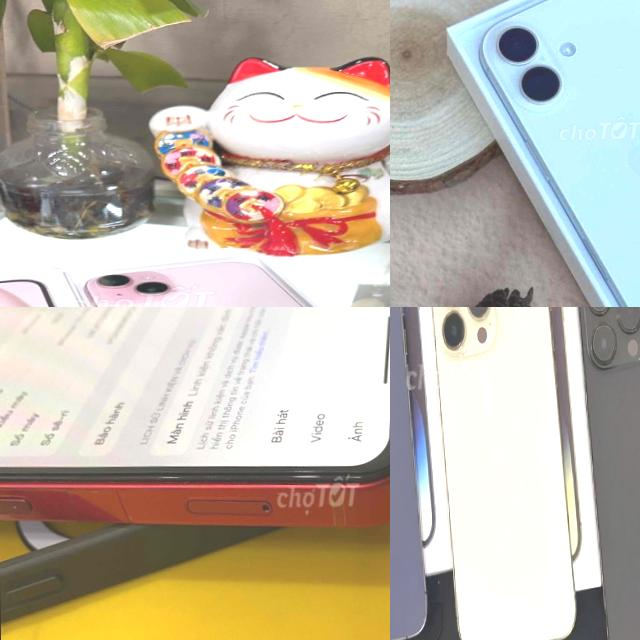gen_12_13: (0, 307, 390, 541)
gen_14: (390, 307, 430, 640)
gen_17: (467, 0, 640, 307)
